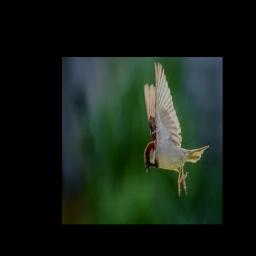Sparrow: (143, 62, 209, 196)
